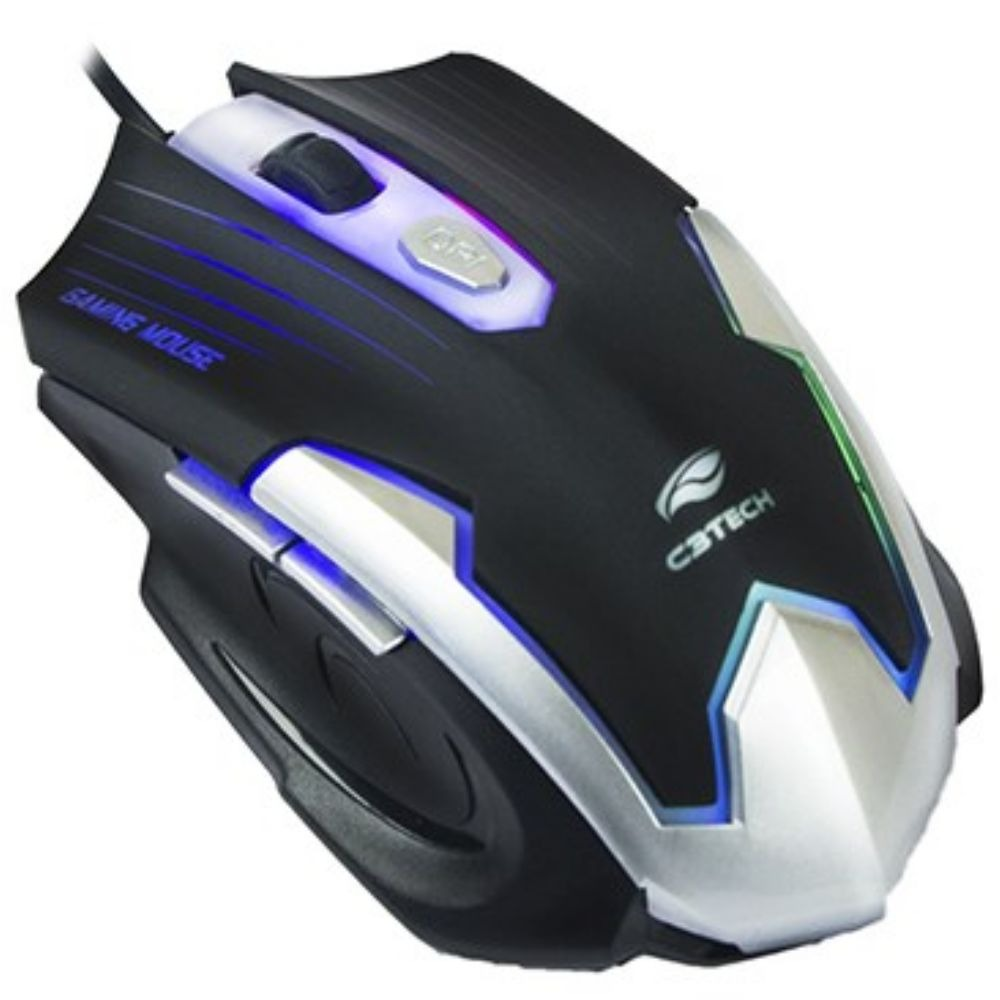mouse: (15, 35, 990, 988)
